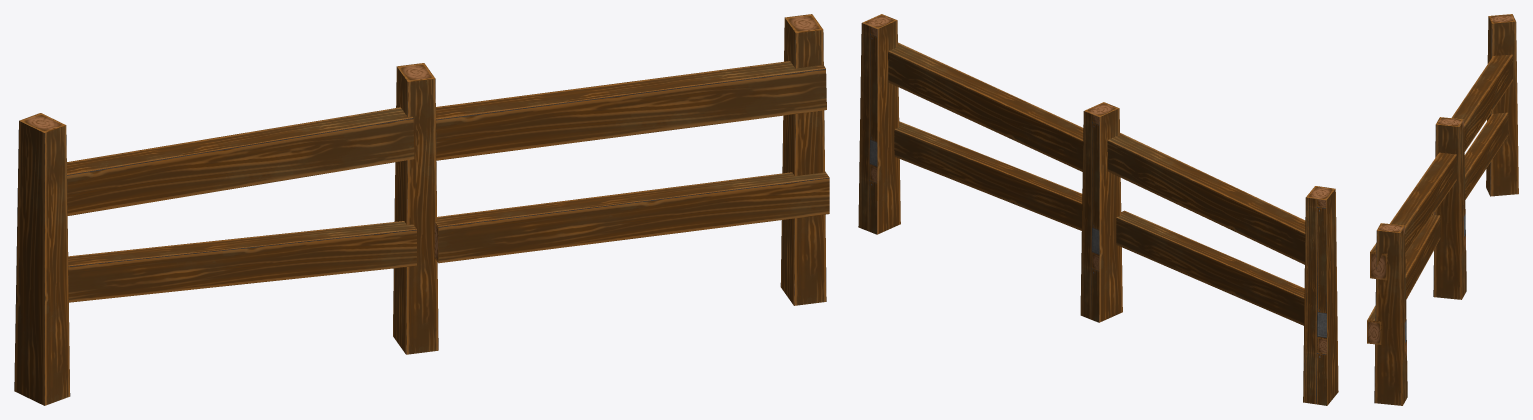
3 renders of one model, left to right at view 1: azimuth 30°, elevation 25°; view 2: azimuth 150°, elevation 25°; view 3: azimuth 270°, elevation 25°, orthographic. The views are drawn at different scales.
Parts seen in each view (by area): view 1: Cube.2146; view 2: Cube.2146; view 3: Cube.2146.
Boxes of the visible parts, left/top/right/bottom form: Cube.2146: left=14, top=14, right=829, bottom=405; Cube.2146: left=858, top=14, right=1338, bottom=405; Cube.2146: left=1367, top=14, right=1518, bottom=405.
Bounding box in the file's own units: 362 × 132 × 105.
1 material, 1 textured.
